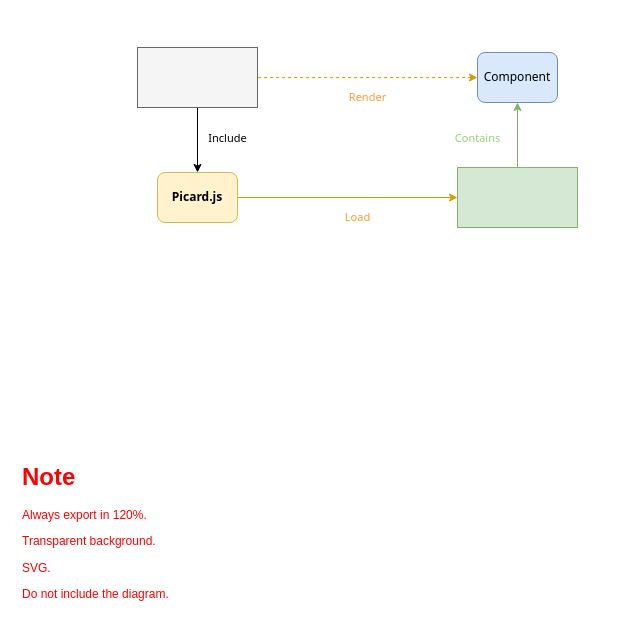
Image size: 634x624. Some labels were removed from this diagram. Here are the shapes that lost their labels. From the top down, the centre of each, then its label:
the point at 197,77: Website
the point at 517,197: Micro Frontend
